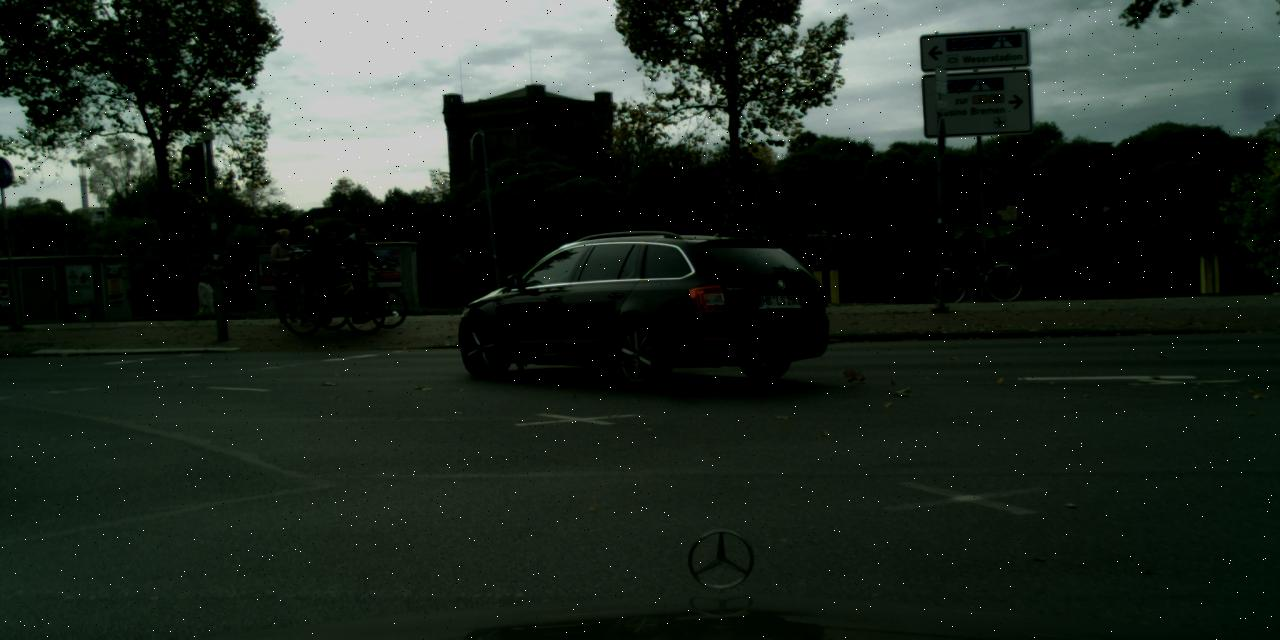ped: (266, 228, 304, 321), (297, 225, 333, 314), (313, 226, 347, 310), (342, 225, 373, 303), (195, 273, 216, 326), (289, 247, 309, 299)
